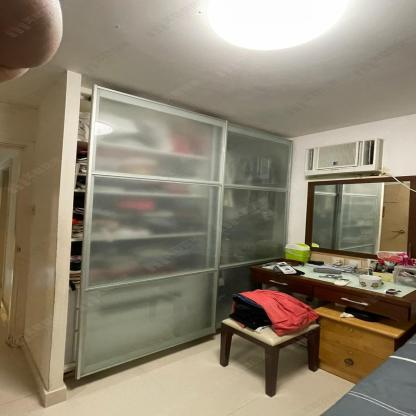AC: (303, 138, 384, 178)
Closet: (46, 72, 295, 397)
Desk: (250, 259, 416, 323)
